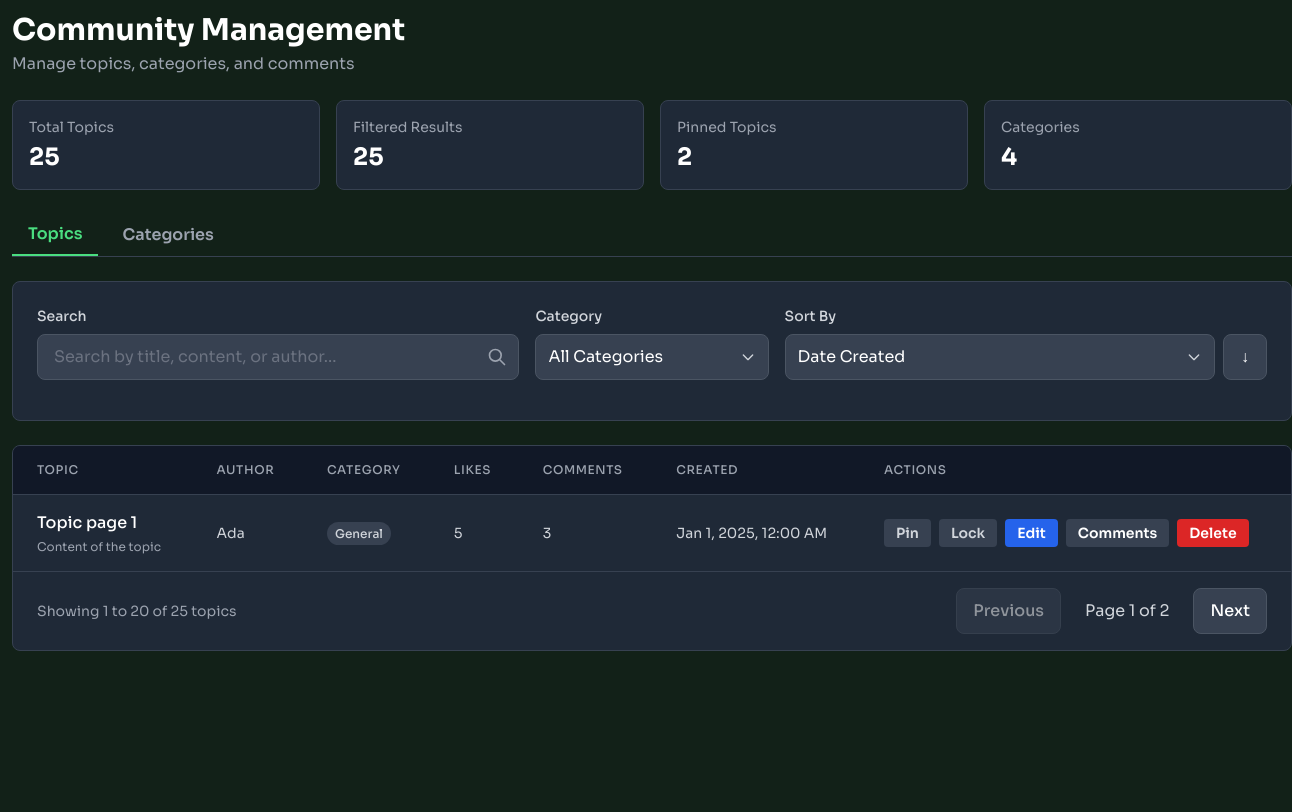
Test: CommunityManager › sends search and sorting parameters to the server
Type "afro" into the field with placeholder "Search by title, content, or author...".
click(278, 357); type("afro")  # box [37,334,519,380]
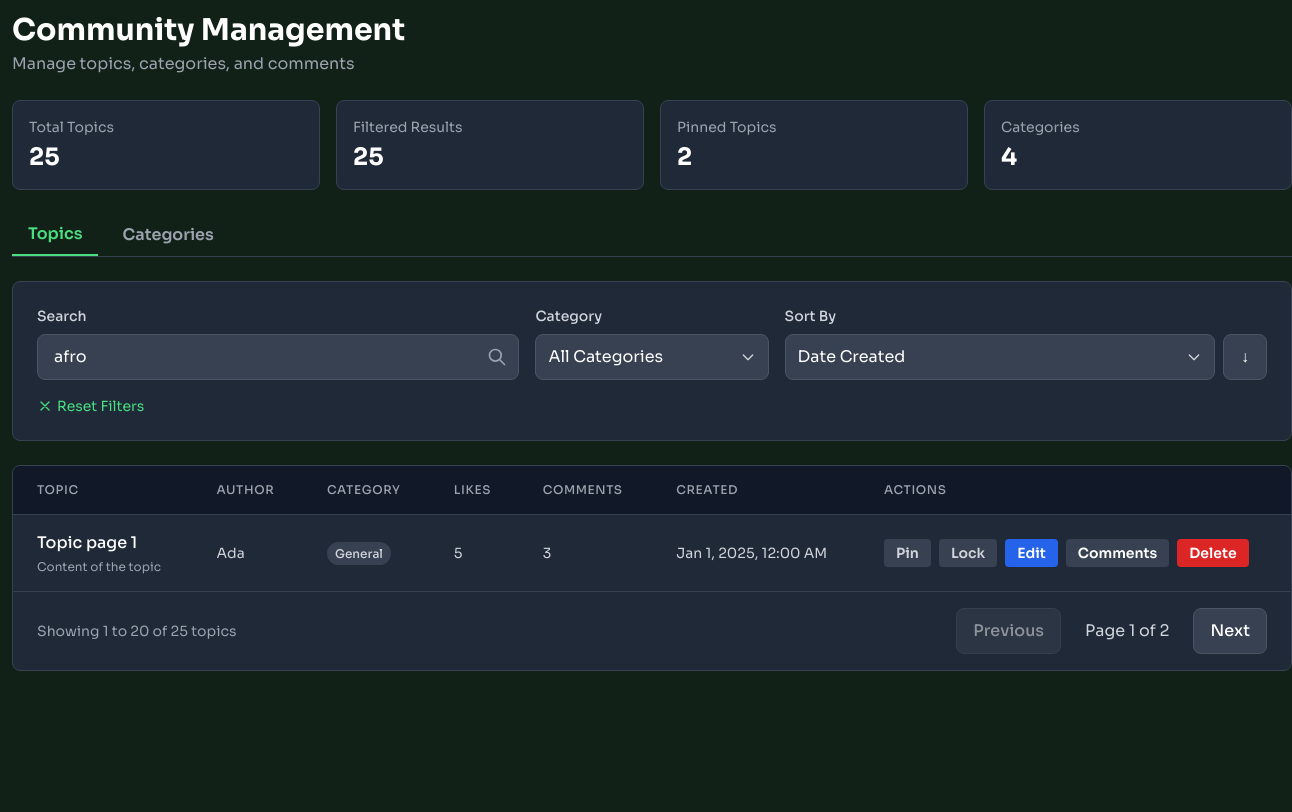
Select "Likes" in the dropdown labelled "Sort By" at coordinates (1000, 357), box [785,334,1215,380]
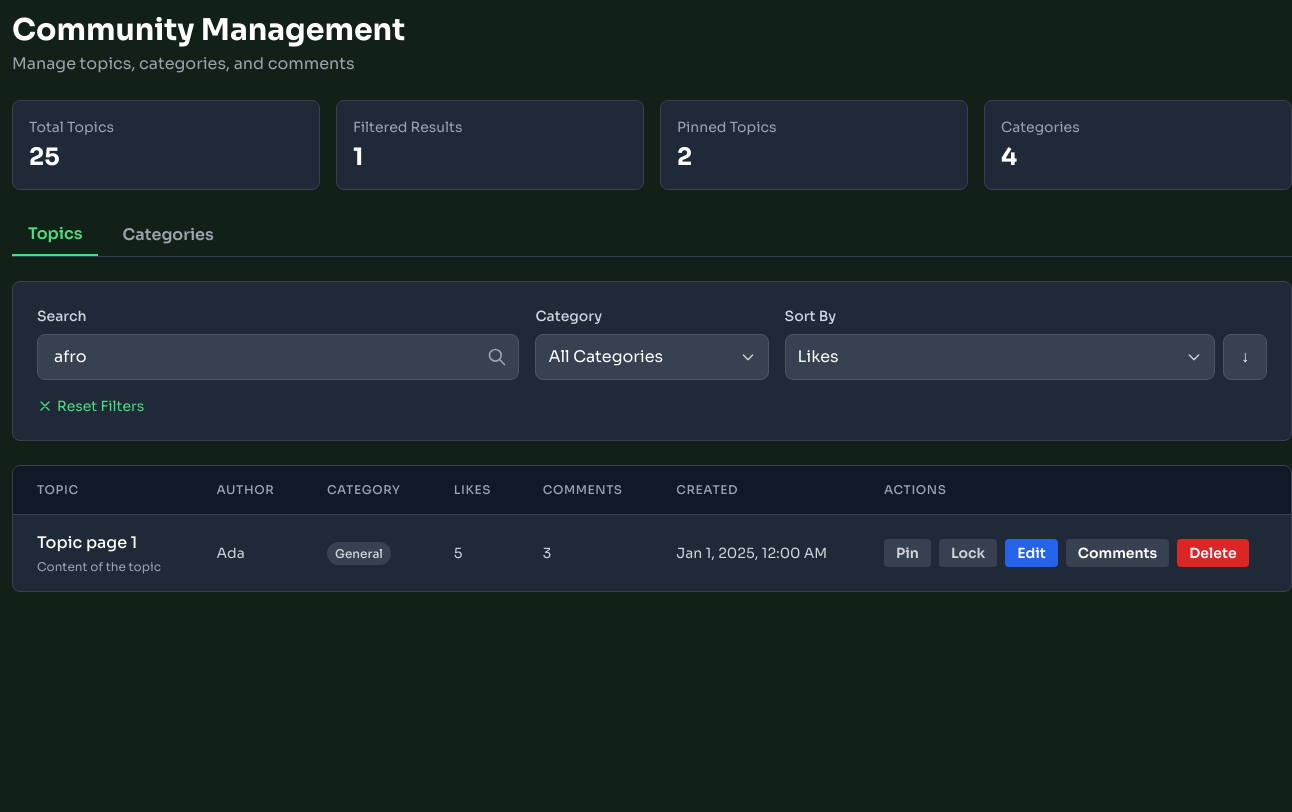
Expected: the text "1" is shown, [353,142,363,172]
